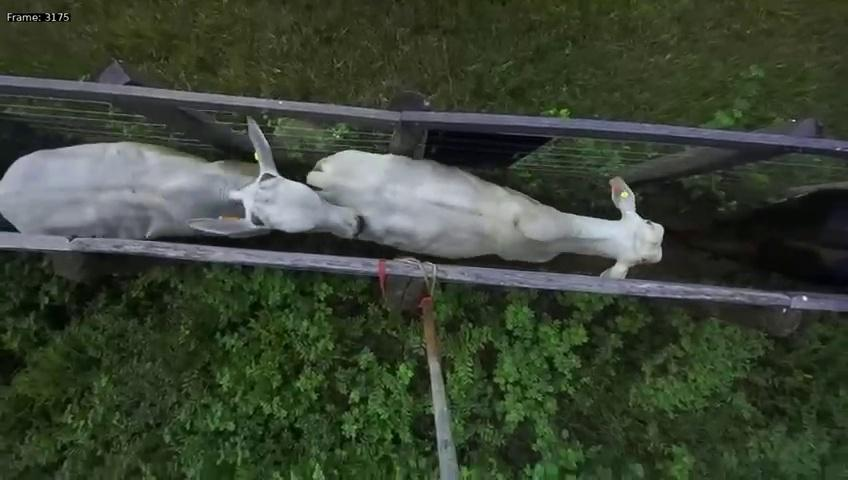cattle: (0, 109, 368, 250), (305, 140, 668, 279)
